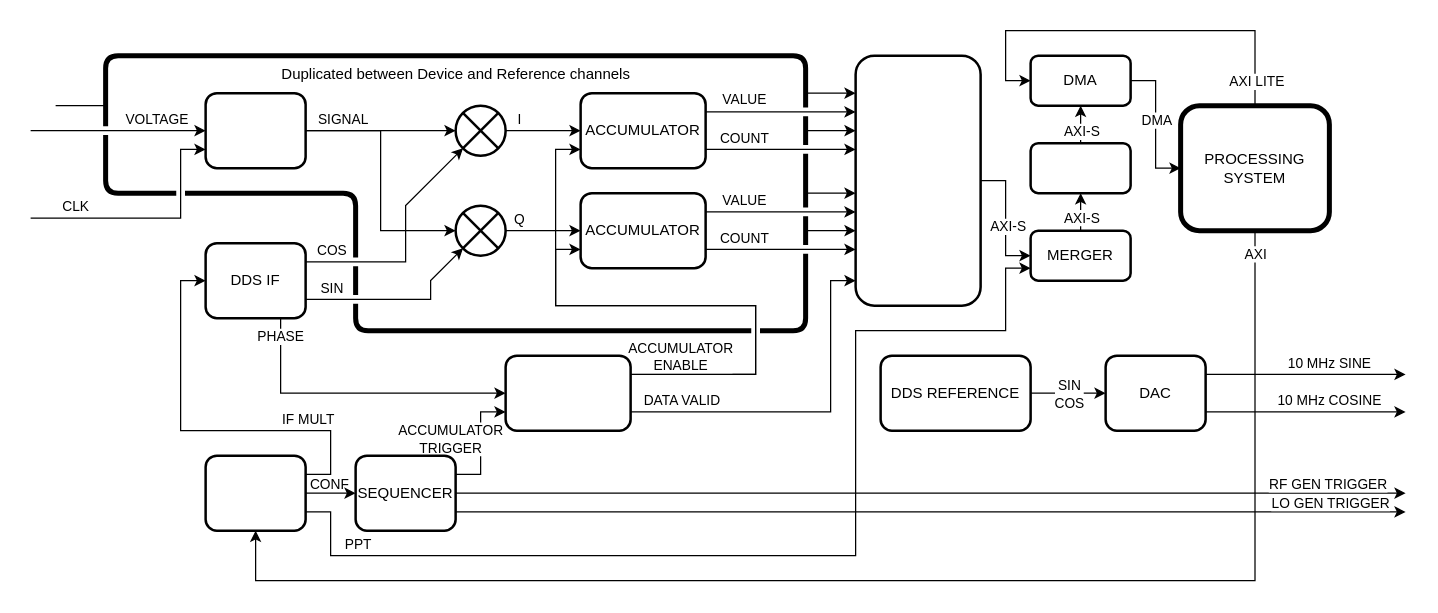
The diagram is 1438 pixels wide and 613 high, and some of its shapes have lost their labels. Here are the shapes that lost their labels. From the top down, the centre of each, then its label:
At point 255,130: "ADC".
At point 917,180: "PACKETISER".
At point 1080,167: "FIFO".
At point 567,392: "ACCUMULATOR CONTROL".
At point 255,492: "MMIO REGISTERS".
